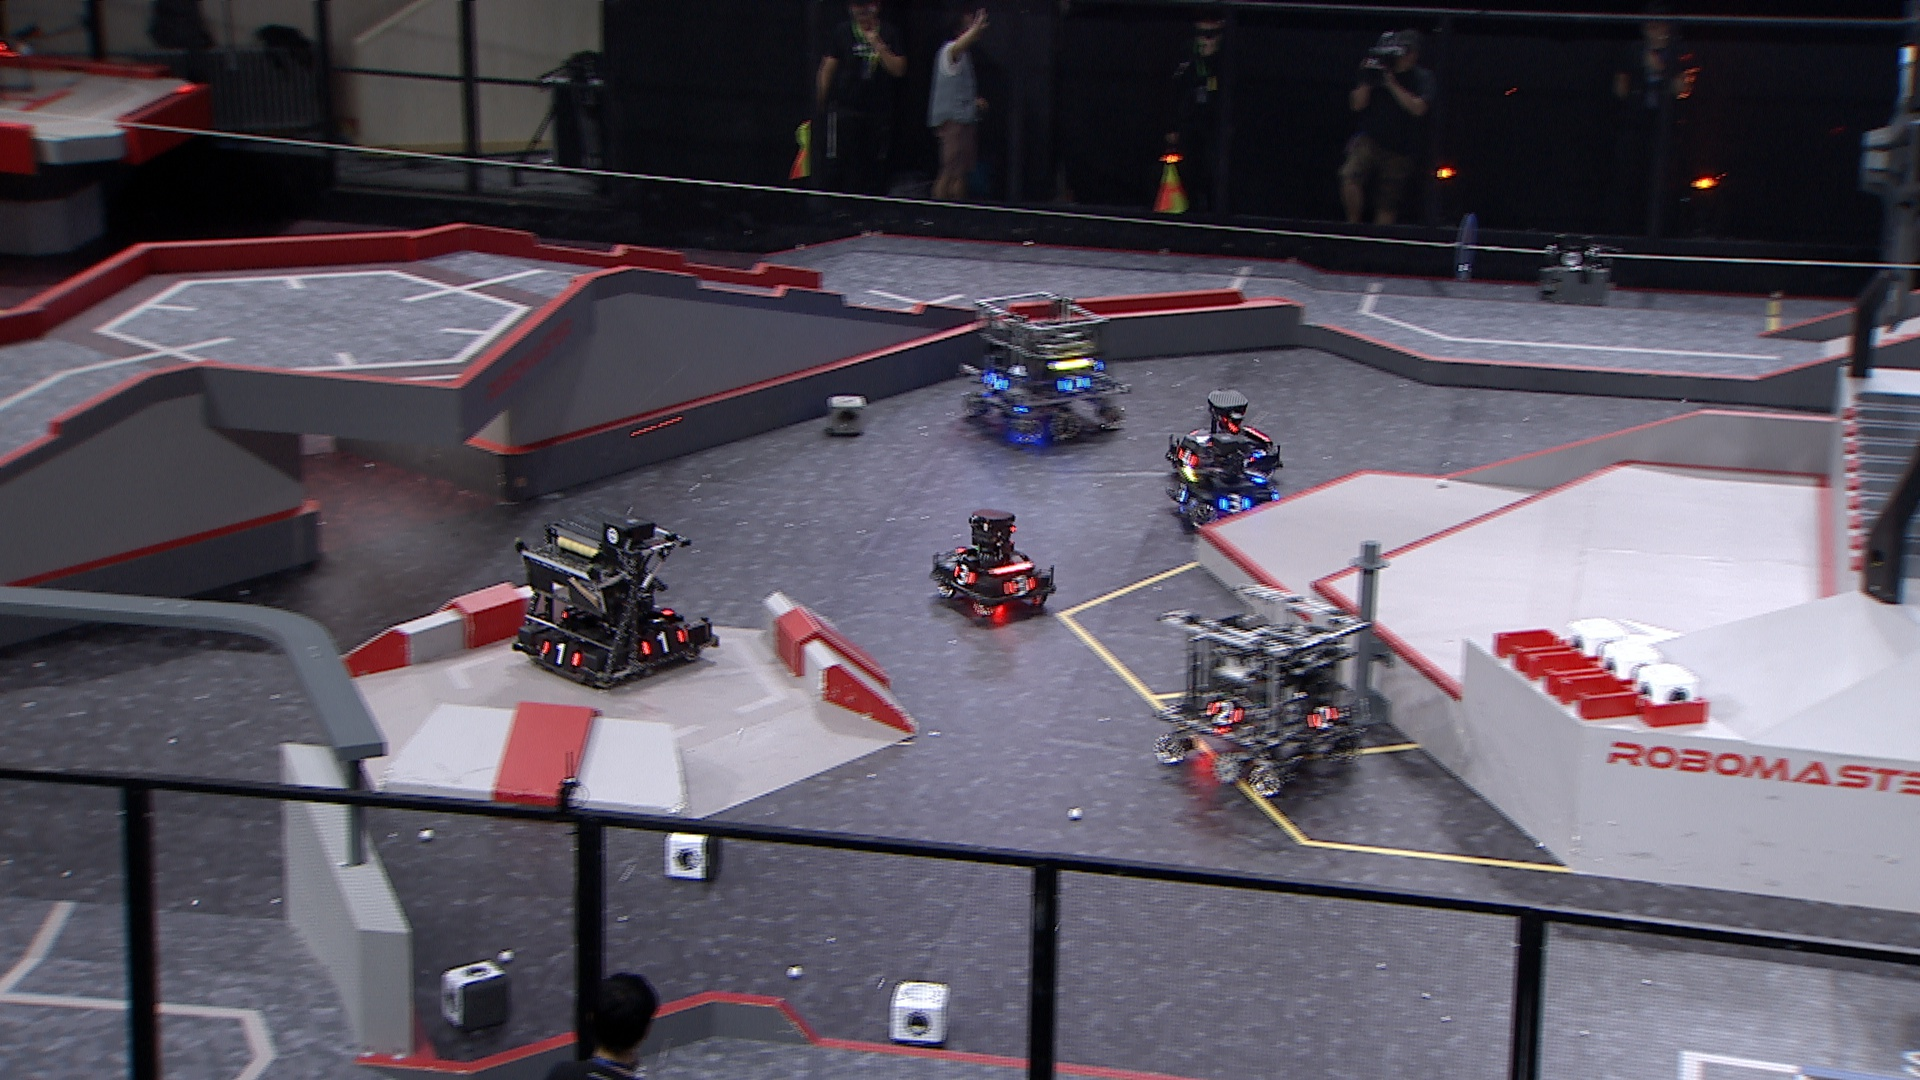armor: (645, 632, 686, 659), (543, 640, 583, 666), (1305, 704, 1342, 727), (1211, 698, 1240, 725), (1005, 575, 1035, 597), (1188, 425, 1218, 446), (1058, 375, 1088, 396), (981, 371, 1007, 394), (647, 599, 673, 621), (1176, 448, 1201, 469), (1220, 495, 1249, 512), (953, 564, 973, 588), (1247, 469, 1267, 485), (1174, 481, 1187, 501)
car: (1154, 578, 1371, 804), (509, 502, 713, 688), (955, 290, 1125, 446), (928, 510, 1059, 624), (1164, 389, 1291, 485), (1168, 451, 1284, 541)
